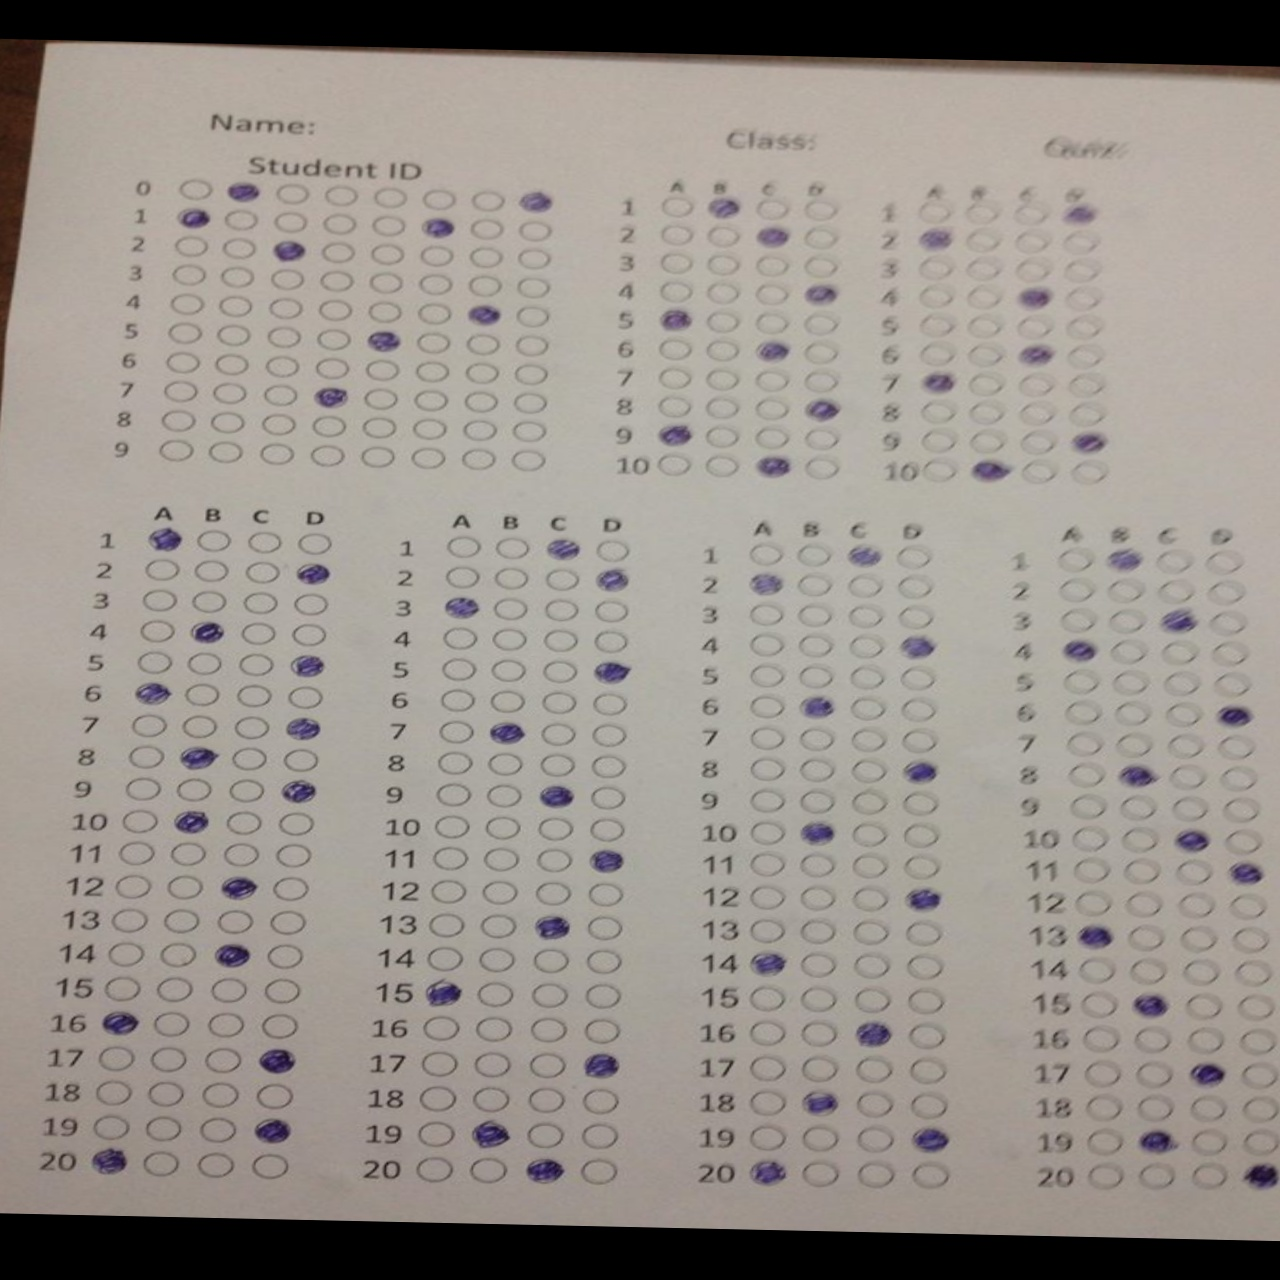not-c: (1230, 926, 1273, 956), (1114, 795, 1156, 824), (1207, 642, 1253, 669), (1121, 857, 1160, 887), (1070, 459, 1111, 489), (1175, 892, 1216, 921), (1235, 959, 1276, 988), (1068, 858, 1112, 885), (1241, 1061, 1280, 1091), (1206, 583, 1250, 610), (1171, 857, 1212, 885), (1228, 891, 1269, 919), (904, 989, 948, 1015), (1182, 995, 1226, 1021), (1235, 996, 1280, 1022), (1082, 1164, 1126, 1190), (1190, 1162, 1230, 1190), (847, 855, 891, 880), (1235, 1029, 1279, 1055), (583, 985, 624, 1012), (853, 1056, 894, 1083), (1121, 828, 1162, 855), (1053, 579, 1097, 604), (1184, 1027, 1228, 1051), (577, 1158, 615, 1186), (1136, 1096, 1178, 1122), (1082, 1129, 1124, 1155), (907, 1024, 947, 1051), (802, 1162, 842, 1189), (1063, 760, 1103, 787), (1219, 767, 1259, 794), (1135, 1063, 1175, 1090), (1187, 1097, 1227, 1124), (470, 1016, 513, 1041), (525, 1017, 568, 1042), (745, 822, 789, 846), (220, 842, 261, 867), (579, 1124, 620, 1150), (1218, 735, 1259, 761), (1082, 1058, 1123, 1084), (1242, 1097, 1280, 1125), (1223, 831, 1267, 855), (272, 876, 311, 903), (906, 1057, 945, 1084), (1204, 549, 1242, 576), (1183, 958, 1221, 985), (470, 1088, 512, 1112), (853, 1163, 896, 1187), (1170, 795, 1212, 819), (1067, 828, 1109, 852), (1128, 1027, 1170, 1051), (275, 843, 315, 869), (256, 1084, 295, 1110), (583, 1019, 622, 1044), (414, 1157, 454, 1183), (915, 284, 955, 309), (159, 941, 196, 969), (913, 1163, 949, 1191), (247, 1153, 291, 1177), (908, 1094, 952, 1117), (797, 1125, 835, 1152), (1242, 1128, 1280, 1155), (198, 1082, 239, 1107), (856, 1094, 894, 1119), (1163, 672, 1201, 697), (1116, 700, 1155, 726), (1054, 610, 1098, 632), (147, 1049, 189, 1073), (536, 755, 578, 778), (423, 914, 465, 938), (1139, 1163, 1175, 1191), (229, 745, 268, 770), (433, 782, 472, 806), (1063, 287, 1103, 312), (968, 433, 1008, 457), (1155, 579, 1194, 604), (1108, 639, 1148, 663), (1063, 731, 1103, 756), (206, 1010, 243, 1037), (1015, 315, 1051, 342), (1109, 610, 1145, 636), (1169, 733, 1205, 760), (197, 529, 234, 554), (123, 776, 161, 802), (229, 776, 266, 802), (150, 1012, 188, 1037), (858, 1126, 896, 1152), (1019, 458, 1056, 484), (1069, 794, 1107, 819), (1058, 701, 1102, 723), (118, 809, 159, 832), (169, 844, 210, 867), (745, 544, 787, 567), (747, 885, 788, 908), (1065, 404, 1107, 428), (1080, 993, 1121, 1016), (282, 747, 321, 771), (278, 812, 316, 837), (210, 979, 248, 1003), (94, 1047, 132, 1071), (539, 692, 578, 716), (428, 879, 467, 904), (527, 1053, 566, 1077), (903, 823, 941, 847), (1216, 673, 1254, 697), (1081, 956, 1119, 981), (1085, 1096, 1124, 1121), (1063, 345, 1098, 372), (1160, 641, 1196, 668), (472, 983, 515, 1006), (239, 651, 275, 676), (266, 942, 302, 968), (155, 976, 191, 1002), (264, 1014, 300, 1040), (533, 983, 570, 1009), (474, 1156, 510, 1182), (1013, 257, 1049, 282), (1064, 316, 1101, 342), (1016, 372, 1053, 397), (1063, 668, 1099, 694), (1080, 1026, 1116, 1051), (275, 184, 315, 207), (114, 873, 154, 897), (91, 1116, 131, 1139), (590, 694, 629, 717), (586, 915, 626, 939), (416, 1087, 456, 1110), (899, 699, 939, 722), (917, 400, 956, 423), (165, 874, 203, 899), (536, 847, 573, 872), (531, 949, 568, 974), (851, 667, 888, 692), (749, 1126, 787, 1151), (1170, 765, 1207, 790), (1223, 799, 1260, 824), (850, 758, 884, 785), (901, 958, 945, 979), (914, 343, 958, 365), (173, 178, 215, 200), (215, 911, 256, 933), (896, 607, 937, 629), (1073, 893, 1114, 915), (366, 386, 401, 411), (188, 590, 226, 613), (139, 620, 178, 644), (115, 842, 154, 865), (205, 1047, 240, 1073), (144, 1117, 183, 1141), (195, 1152, 233, 1176), (425, 948, 464, 972), (416, 1121, 455, 1144), (896, 577, 934, 600), (749, 696, 788, 720), (847, 696, 886, 720), (796, 729, 835, 753), (798, 886, 837, 910), (1012, 205, 1050, 229), (919, 461, 958, 484), (1208, 613, 1247, 636), (469, 189, 505, 213), (96, 1080, 132, 1104), (525, 1123, 561, 1148), (855, 988, 891, 1013), (1114, 670, 1150, 695), (1184, 927, 1220, 952), (233, 685, 273, 707), (284, 685, 324, 707), (105, 942, 145, 965), (486, 753, 526, 775), (420, 1054, 459, 1076), (747, 728, 787, 750), (798, 760, 838, 782), (849, 888, 888, 911), (747, 989, 787, 1012), (919, 316, 959, 339), (1166, 704, 1206, 727), (1124, 894, 1164, 917), (274, 207, 307, 234), (468, 274, 505, 298), (366, 301, 403, 325), (264, 383, 301, 407), (291, 593, 328, 617), (290, 622, 327, 646), (127, 745, 164, 769), (200, 1119, 238, 1143), (592, 723, 629, 747), (477, 948, 515, 972), (525, 1090, 563, 1114), (702, 454, 740, 477), (797, 856, 835, 879), (903, 856, 940, 879), (1112, 733, 1150, 756), (373, 184, 407, 210), (441, 719, 475, 744), (1017, 400, 1051, 425), (216, 322, 251, 347), (143, 1150, 178, 1175), (544, 566, 579, 591), (658, 198, 699, 219), (804, 456, 839, 481), (751, 789, 787, 813), (799, 987, 835, 1012), (750, 1021, 785, 1046), (315, 271, 354, 293), (162, 352, 200, 374), (211, 383, 250, 406), (295, 532, 334, 554), (241, 561, 280, 584), (240, 592, 279, 614), (440, 659, 478, 681), (588, 819, 627, 842), (533, 884, 572, 906), (583, 1091, 621, 1114), (1104, 581, 1143, 604), (266, 299, 302, 322), (314, 328, 350, 352), (411, 390, 448, 414), (509, 448, 545, 471), (267, 912, 304, 935), (105, 978, 142, 1001), (544, 660, 580, 683), (542, 723, 578, 747), (588, 787, 625, 810), (482, 816, 518, 839), (481, 881, 517, 905), (920, 430, 956, 454), (852, 958, 892, 979), (188, 651, 222, 675), (266, 979, 300, 1003), (149, 1082, 183, 1107), (486, 785, 520, 810), (425, 1017, 459, 1042), (326, 186, 363, 209), (422, 188, 459, 210), (169, 264, 206, 286), (215, 354, 252, 376), (463, 392, 501, 414), (509, 421, 546, 443), (142, 590, 179, 612), (175, 777, 212, 799), (595, 540, 633, 563), (443, 628, 481, 651), (851, 791, 888, 813), (904, 794, 941, 816), (1064, 261, 1102, 284), (967, 287, 1005, 309), (469, 245, 504, 268), (220, 265, 256, 288), (416, 331, 451, 354), (415, 360, 450, 383), (164, 380, 199, 403), (516, 392, 551, 415), (161, 409, 196, 433), (261, 442, 297, 465), (162, 908, 197, 932), (431, 816, 467, 839), (481, 915, 516, 939), (475, 1055, 510, 1078), (846, 605, 881, 628), (907, 921, 942, 945), (1160, 552, 1196, 576), (358, 417, 399, 437), (367, 273, 406, 294), (130, 715, 169, 736), (801, 429, 839, 450), (271, 267, 307, 290), (206, 441, 243, 463), (360, 445, 396, 468), (111, 908, 148, 931), (537, 818, 573, 840), (900, 668, 937, 690), (849, 730, 885, 753), (748, 853, 784, 876), (914, 259, 951, 281), (1056, 546, 1092, 568), (1194, 1130, 1227, 1155), (420, 273, 454, 297), (365, 359, 399, 382), (311, 444, 345, 468), (493, 660, 527, 683), (434, 847, 468, 871), (591, 883, 625, 906), (706, 425, 740, 449), (1133, 927, 1167, 951), (1132, 960, 1166, 983), (459, 420, 499, 440), (488, 692, 527, 712), (318, 241, 355, 263), (217, 295, 254, 316), (314, 358, 352, 379), (258, 415, 295, 436), (543, 629, 580, 651), (796, 636, 833, 658), (797, 954, 835, 975), (966, 316, 1003, 338), (967, 346, 1005, 367), (222, 236, 257, 258), (420, 246, 455, 268), (517, 246, 552, 268), (170, 293, 205, 315), (166, 322, 202, 345), (467, 333, 502, 355), (227, 812, 263, 835), (438, 751, 474, 774), (591, 755, 626, 777), (588, 952, 624, 974), (704, 282, 740, 305), (750, 602, 785, 625), (1069, 376, 1104, 399), (1019, 433, 1054, 455), (485, 849, 517, 873), (913, 203, 952, 223), (754, 312, 787, 335), (707, 368, 740, 392), (801, 605, 833, 628), (802, 790, 835, 813), (513, 336, 550, 358), (263, 358, 299, 379), (209, 411, 245, 433), (411, 418, 448, 440), (179, 716, 216, 737), (234, 717, 271, 738), (794, 574, 830, 595), (845, 635, 881, 656), (751, 921, 788, 942), (749, 1092, 785, 1114), (1012, 231, 1048, 252), (1063, 233, 1099, 254), (319, 212, 353, 234), (175, 234, 209, 257), (417, 302, 451, 325), (467, 363, 501, 386), (246, 532, 280, 554), (195, 559, 229, 581), (755, 284, 789, 306), (658, 395, 692, 417), (707, 396, 741, 418), (903, 731, 937, 754), (851, 823, 885, 845), (964, 230, 998, 252), (969, 403, 1003, 425), (265, 327, 302, 347), (965, 259, 1002, 279), (967, 376, 1007, 395), (223, 209, 258, 230), (312, 416, 347, 437), (411, 448, 447, 469), (448, 537, 483, 558), (546, 598, 578, 621), (704, 311, 740, 332), (658, 369, 693, 390), (801, 667, 832, 690), (799, 921, 835, 942), (853, 922, 888, 944), (369, 243, 402, 265), (186, 682, 219, 704), (597, 600, 629, 622), (493, 628, 526, 651), (459, 450, 498, 469), (467, 219, 503, 239), (440, 692, 476, 712), (748, 761, 784, 781), (163, 441, 197, 462), (241, 622, 275, 644), (495, 598, 529, 619), (708, 227, 742, 248), (704, 340, 738, 361), (806, 343, 840, 365), (796, 546, 830, 567), (802, 1023, 836, 1044), (805, 314, 836, 338), (319, 300, 350, 322), (517, 365, 549, 387), (496, 568, 527, 591), (757, 199, 789, 222), (804, 370, 836, 393), (654, 458, 692, 477), (802, 200, 837, 220), (658, 281, 693, 301), (137, 653, 170, 674), (706, 254, 738, 275), (849, 577, 881, 598), (444, 568, 481, 587), (661, 253, 692, 275), (756, 399, 787, 421), (804, 1058, 835, 1081), (372, 217, 406, 237), (515, 307, 549, 327), (594, 633, 628, 653), (750, 668, 784, 688), (519, 275, 551, 297), (803, 229, 835, 250), (661, 339, 693, 360), (145, 560, 181, 579), (749, 635, 784, 654), (755, 256, 788, 275), (897, 546, 930, 566), (806, 256, 837, 277), (751, 1057, 782, 1078), (968, 203, 999, 224), (754, 430, 787, 449), (499, 539, 530, 559), (756, 372, 787, 392), (663, 226, 694, 245), (520, 220, 549, 240)
taken-c: (517, 1153, 566, 1185), (908, 1121, 954, 1155), (256, 1046, 302, 1078), (1126, 989, 1173, 1022), (1223, 856, 1271, 887), (745, 1156, 791, 1189), (850, 1017, 896, 1049), (421, 975, 463, 1009), (898, 756, 945, 787), (1133, 1125, 1180, 1156), (1186, 1057, 1230, 1090), (745, 949, 790, 981), (1239, 1158, 1280, 1192), (216, 873, 260, 904), (795, 692, 839, 722), (469, 1119, 515, 1149), (1073, 921, 1118, 951), (1211, 701, 1257, 730), (277, 777, 321, 806), (97, 1007, 141, 1036), (1114, 762, 1160, 789), (1157, 607, 1204, 634), (798, 280, 843, 308), (842, 542, 886, 570), (1171, 826, 1216, 855), (210, 941, 252, 971), (579, 1051, 621, 1081), (535, 782, 577, 811), (896, 632, 938, 661), (796, 818, 838, 847), (743, 568, 787, 597), (89, 1146, 129, 1177), (485, 719, 526, 748), (291, 560, 335, 587), (1056, 638, 1101, 665), (1068, 429, 1112, 456), (588, 658, 631, 686), (655, 306, 699, 333), (1102, 547, 1145, 574), (531, 913, 571, 942), (173, 204, 215, 232), (132, 680, 173, 708), (173, 806, 215, 835), (753, 224, 794, 252), (753, 452, 794, 481), (903, 885, 944, 913), (799, 1088, 840, 1116), (1013, 285, 1057, 311), (267, 237, 309, 264), (312, 383, 354, 410), (441, 593, 483, 620), (703, 195, 745, 222), (655, 422, 697, 449), (516, 188, 556, 216), (418, 213, 459, 240), (968, 457, 1009, 484), (593, 566, 632, 594), (587, 846, 627, 873), (751, 338, 791, 365), (1058, 202, 1098, 229), (281, 717, 322, 743), (252, 1116, 290, 1144), (465, 302, 508, 327), (144, 526, 186, 551), (177, 745, 217, 771), (918, 369, 958, 395), (545, 536, 583, 563), (801, 396, 840, 421), (224, 178, 261, 204), (290, 652, 327, 678), (912, 229, 953, 252), (1016, 342, 1055, 367), (189, 619, 225, 644), (365, 328, 402, 352)
